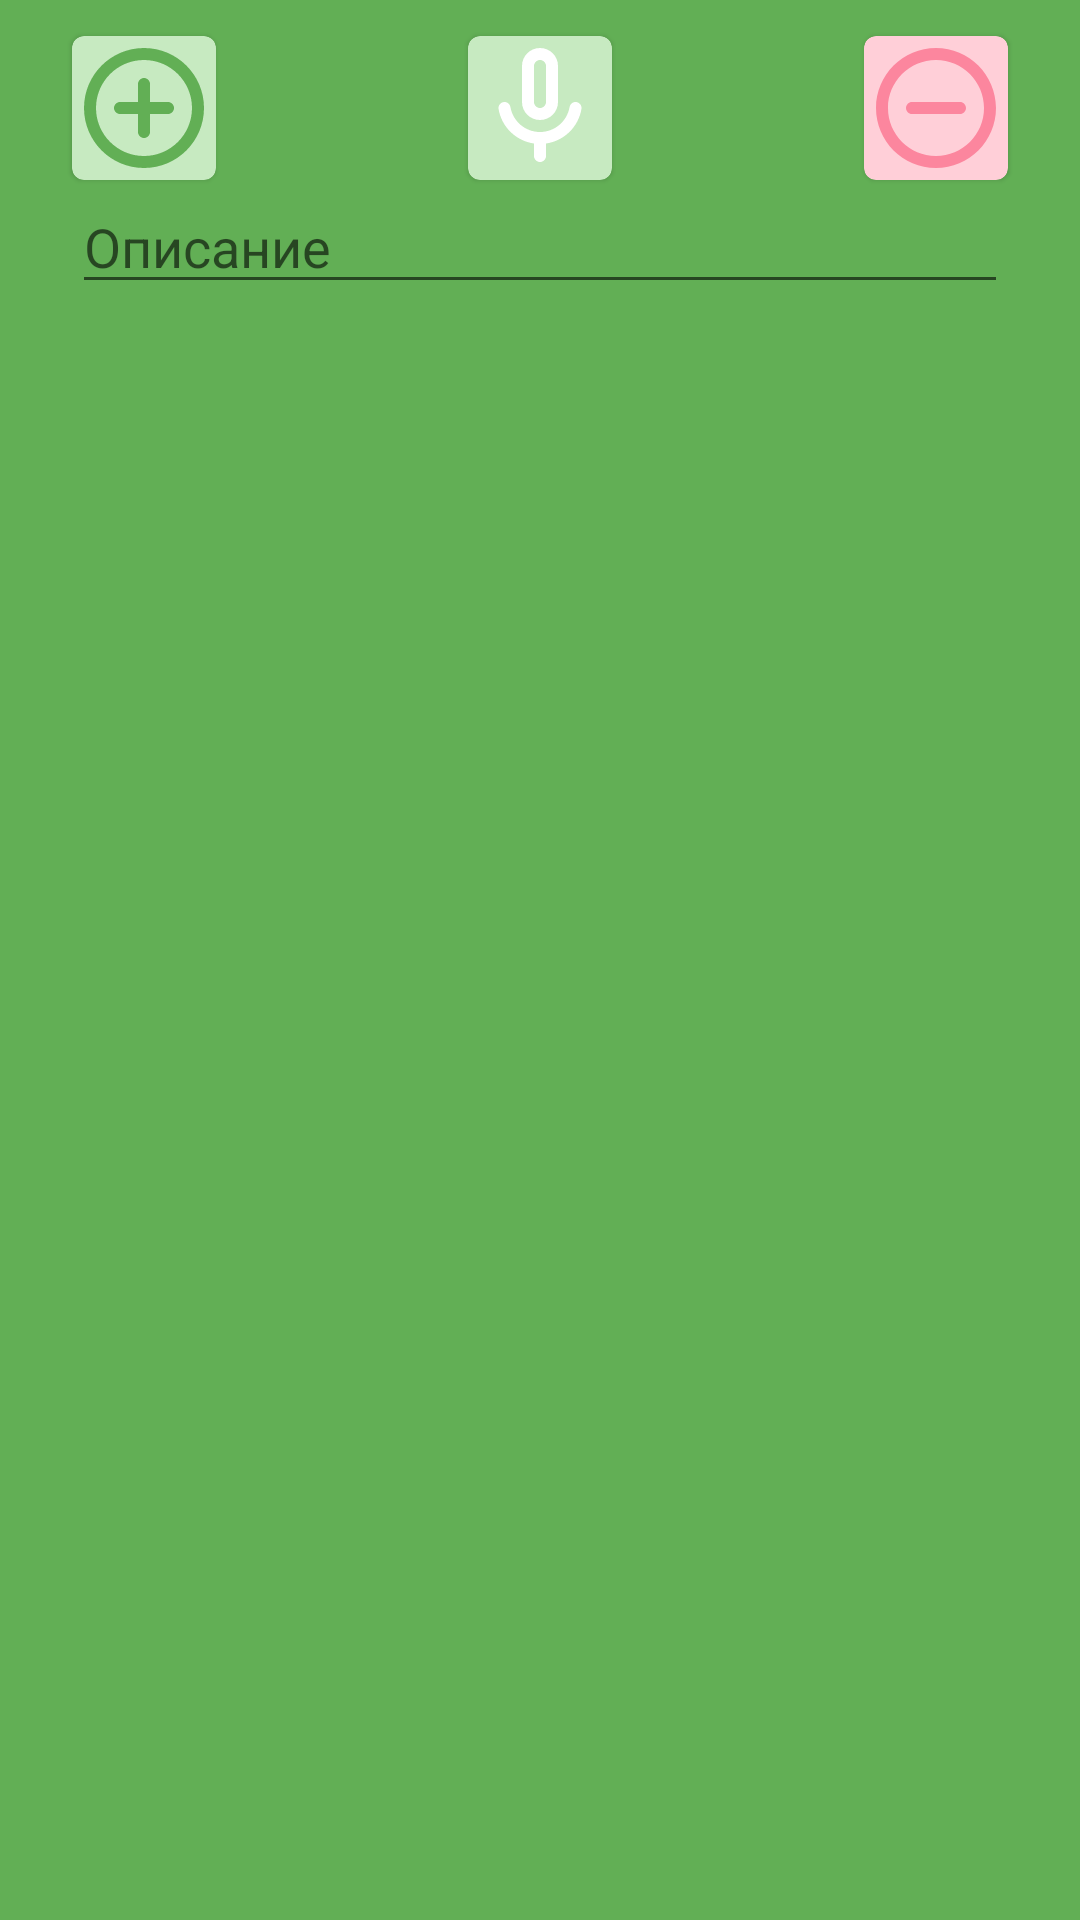

Point at icon controls on the screen. Image size 1080 × 1920, points as [x,y].
add circle: [144,108]
mic: [540,108]
remove circle: [936,108]
